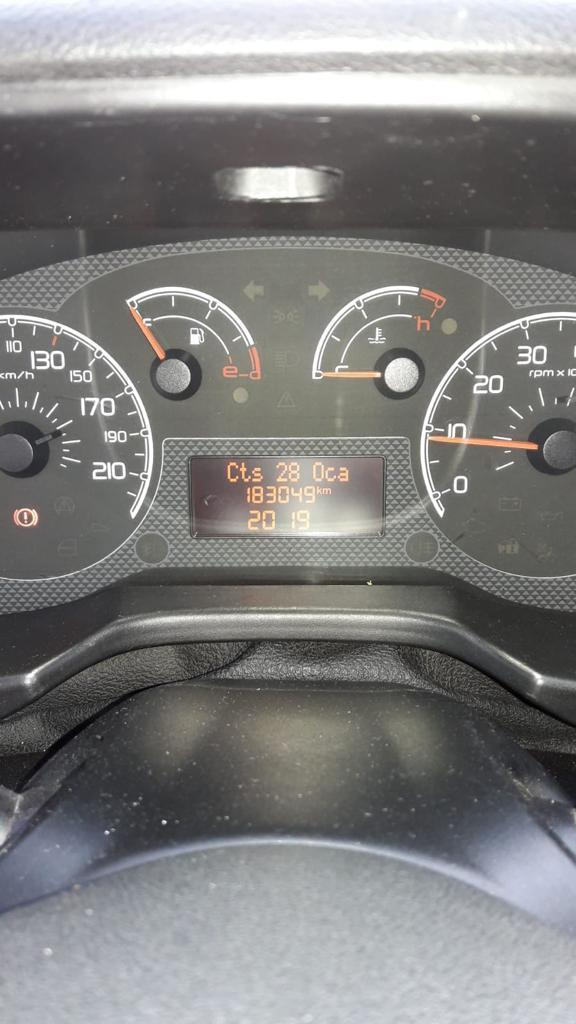0: (262, 510, 275, 530), (277, 485, 289, 503)
1: (291, 511, 296, 529), (245, 487, 250, 503)
2: (247, 510, 261, 530), (275, 461, 288, 482)
3: (265, 486, 276, 503)
4: (290, 486, 302, 503)
8: (288, 462, 300, 481), (251, 486, 263, 503)
9: (296, 509, 310, 530), (303, 486, 315, 503)
X: (226, 461, 239, 482), (312, 461, 324, 481), (239, 462, 250, 482), (337, 467, 349, 482), (251, 467, 263, 482), (325, 466, 336, 481), (322, 487, 331, 495), (316, 486, 322, 495)
odometer: (187, 455, 386, 539)
